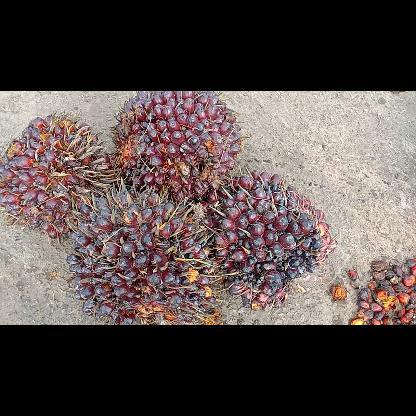Kurang masak: (66, 186, 230, 324), (196, 167, 338, 310), (0, 111, 118, 247)
TBS masak: (107, 90, 248, 208)
